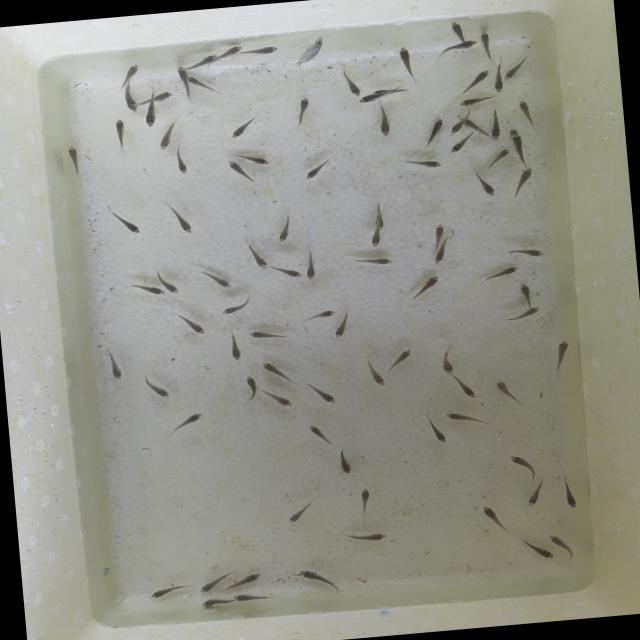fingerling: (101, 200, 146, 238), (161, 196, 201, 238), (296, 561, 344, 596), (290, 32, 328, 72), (302, 376, 342, 408), (172, 307, 208, 340), (478, 500, 509, 538), (394, 42, 422, 84), (407, 270, 443, 302), (341, 524, 392, 546), (554, 471, 582, 511), (165, 408, 208, 434), (258, 355, 294, 386), (226, 110, 261, 141), (381, 345, 416, 376), (476, 263, 522, 286), (490, 375, 524, 406), (282, 497, 318, 526), (506, 449, 538, 481), (508, 165, 537, 200), (302, 154, 338, 182), (400, 153, 444, 175), (197, 266, 234, 292), (418, 114, 446, 148), (548, 336, 573, 374), (353, 481, 378, 519), (243, 324, 290, 344), (188, 71, 222, 98), (101, 348, 128, 382), (443, 406, 488, 426), (290, 94, 316, 128), (242, 237, 268, 271), (422, 415, 450, 446), (499, 304, 542, 324), (502, 54, 530, 84), (146, 580, 188, 600), (306, 418, 334, 448), (350, 252, 396, 270), (521, 479, 549, 508), (142, 371, 172, 398), (62, 140, 84, 176), (372, 105, 396, 138), (514, 96, 538, 129), (220, 295, 256, 316), (463, 66, 492, 92), (270, 211, 296, 240), (481, 146, 512, 170), (263, 388, 296, 410), (301, 249, 323, 282), (112, 114, 131, 152), (248, 41, 282, 62), (506, 243, 548, 260), (452, 374, 478, 401), (364, 359, 388, 388), (437, 344, 458, 377), (231, 589, 274, 605), (476, 27, 496, 61), (224, 158, 250, 184), (509, 132, 528, 167), (445, 16, 469, 43), (171, 143, 191, 175), (456, 92, 496, 108), (298, 308, 338, 324), (341, 68, 362, 98), (194, 573, 224, 594), (546, 528, 572, 552), (475, 171, 498, 198), (332, 447, 353, 476), (118, 88, 140, 115), (487, 107, 505, 140), (132, 283, 166, 299), (236, 568, 266, 586), (242, 372, 260, 402), (272, 262, 302, 280), (526, 543, 554, 562), (490, 61, 506, 94), (229, 328, 244, 362), (447, 136, 472, 156), (245, 152, 275, 168), (172, 60, 190, 86), (330, 318, 352, 339), (122, 59, 142, 82), (156, 128, 175, 152), (516, 280, 534, 305), (200, 596, 232, 610), (152, 87, 177, 103), (142, 106, 159, 128), (220, 43, 246, 57), (431, 246, 449, 265), (430, 220, 447, 240), (197, 50, 220, 64), (357, 92, 379, 106), (447, 122, 465, 135), (462, 38, 481, 50), (368, 232, 382, 248), (164, 281, 180, 294)
